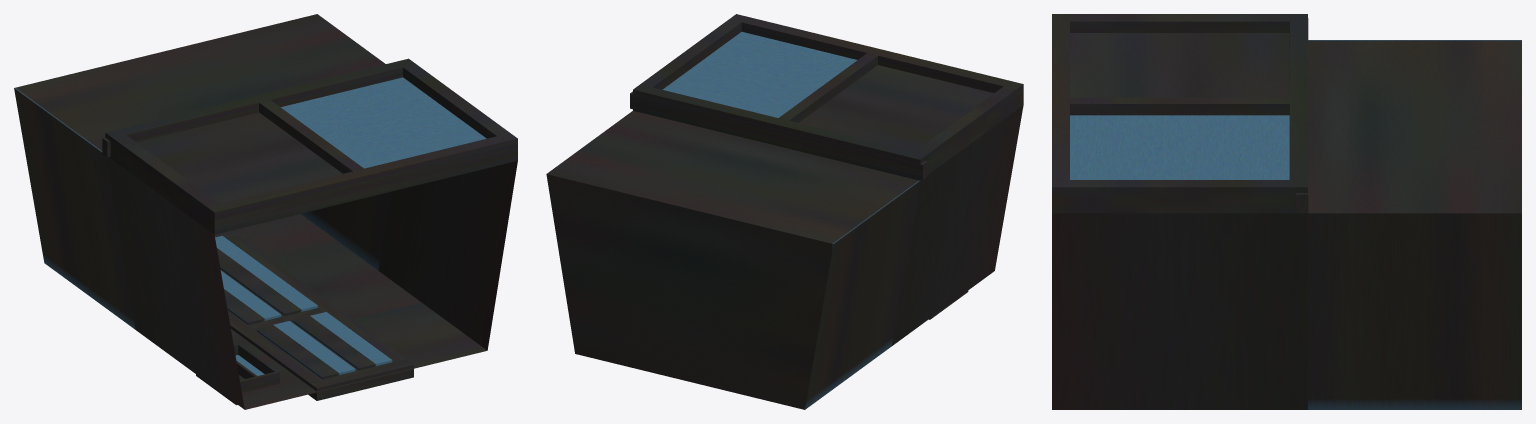
File: balcony.obj
The picture shows the model from 3 angles, left to right: view 1: azimuth 30°, elevation 25°; view 2: azimuth 150°, elevation 25°; view 3: azimuth 270°, elevation 25°; orthographic projection. The views are drawn at different scales.
Bounding box in the file's own units: 2.04 × 1.36 × 2.29.
